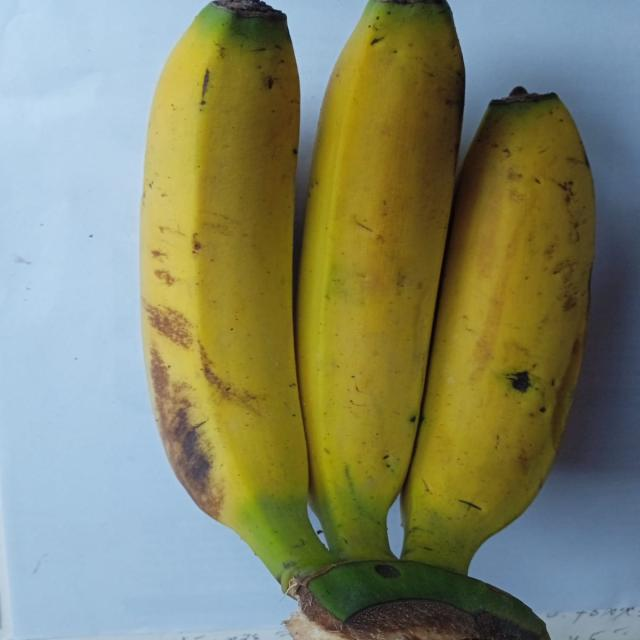banana: (142, 0, 331, 588), (296, 0, 464, 559), (402, 88, 595, 573)
